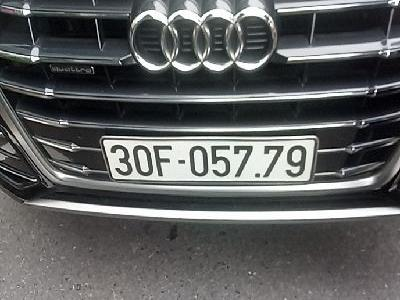number: (103, 131, 314, 184)
